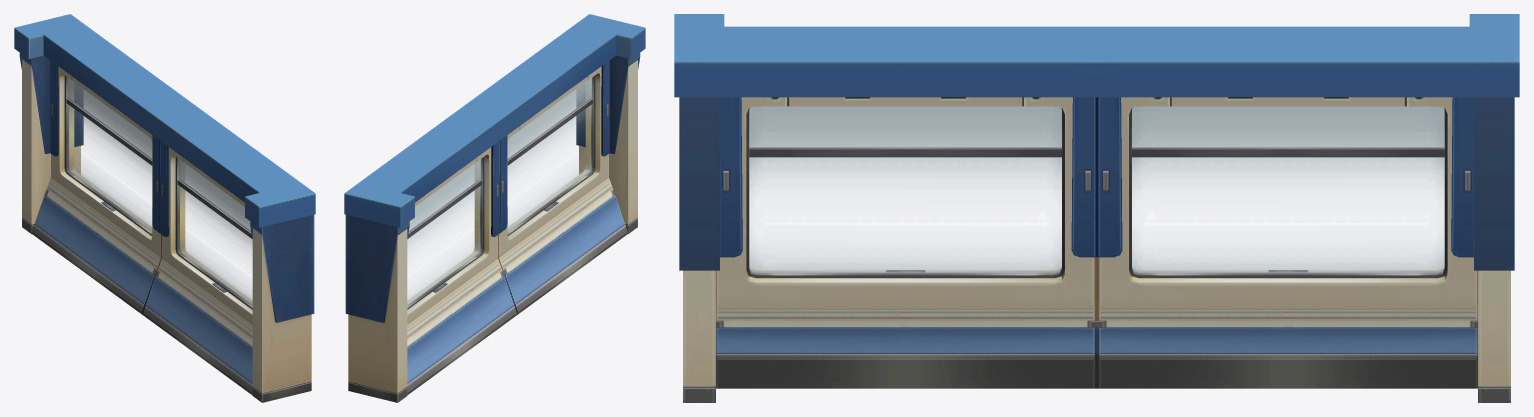
Rendered from my_highlander_01_partition_01.glb.
3 renders of one model, left to right at view 1: azimuth 30°, elevation 25°; view 2: azimuth 150°, elevation 25°; view 3: azimuth 270°, elevation 25°, orthographic. The views are drawn at different scales.
Parts seen in each view (by area): view 1: my_highlander_01_partition_01; view 2: my_highlander_01_partition_01; view 3: my_highlander_01_partition_01.
Part boxes in pixels (<box>): my_highlander_01_partition_01: <box>14,14,315,402</box>; my_highlander_01_partition_01: <box>344,14,645,402</box>; my_highlander_01_partition_01: <box>674,14,1519,402</box>.
Size of the model in its own units: 0.00389 by 0.0132 by 0.0294.
Materials: 2 (2 with a texture image).
